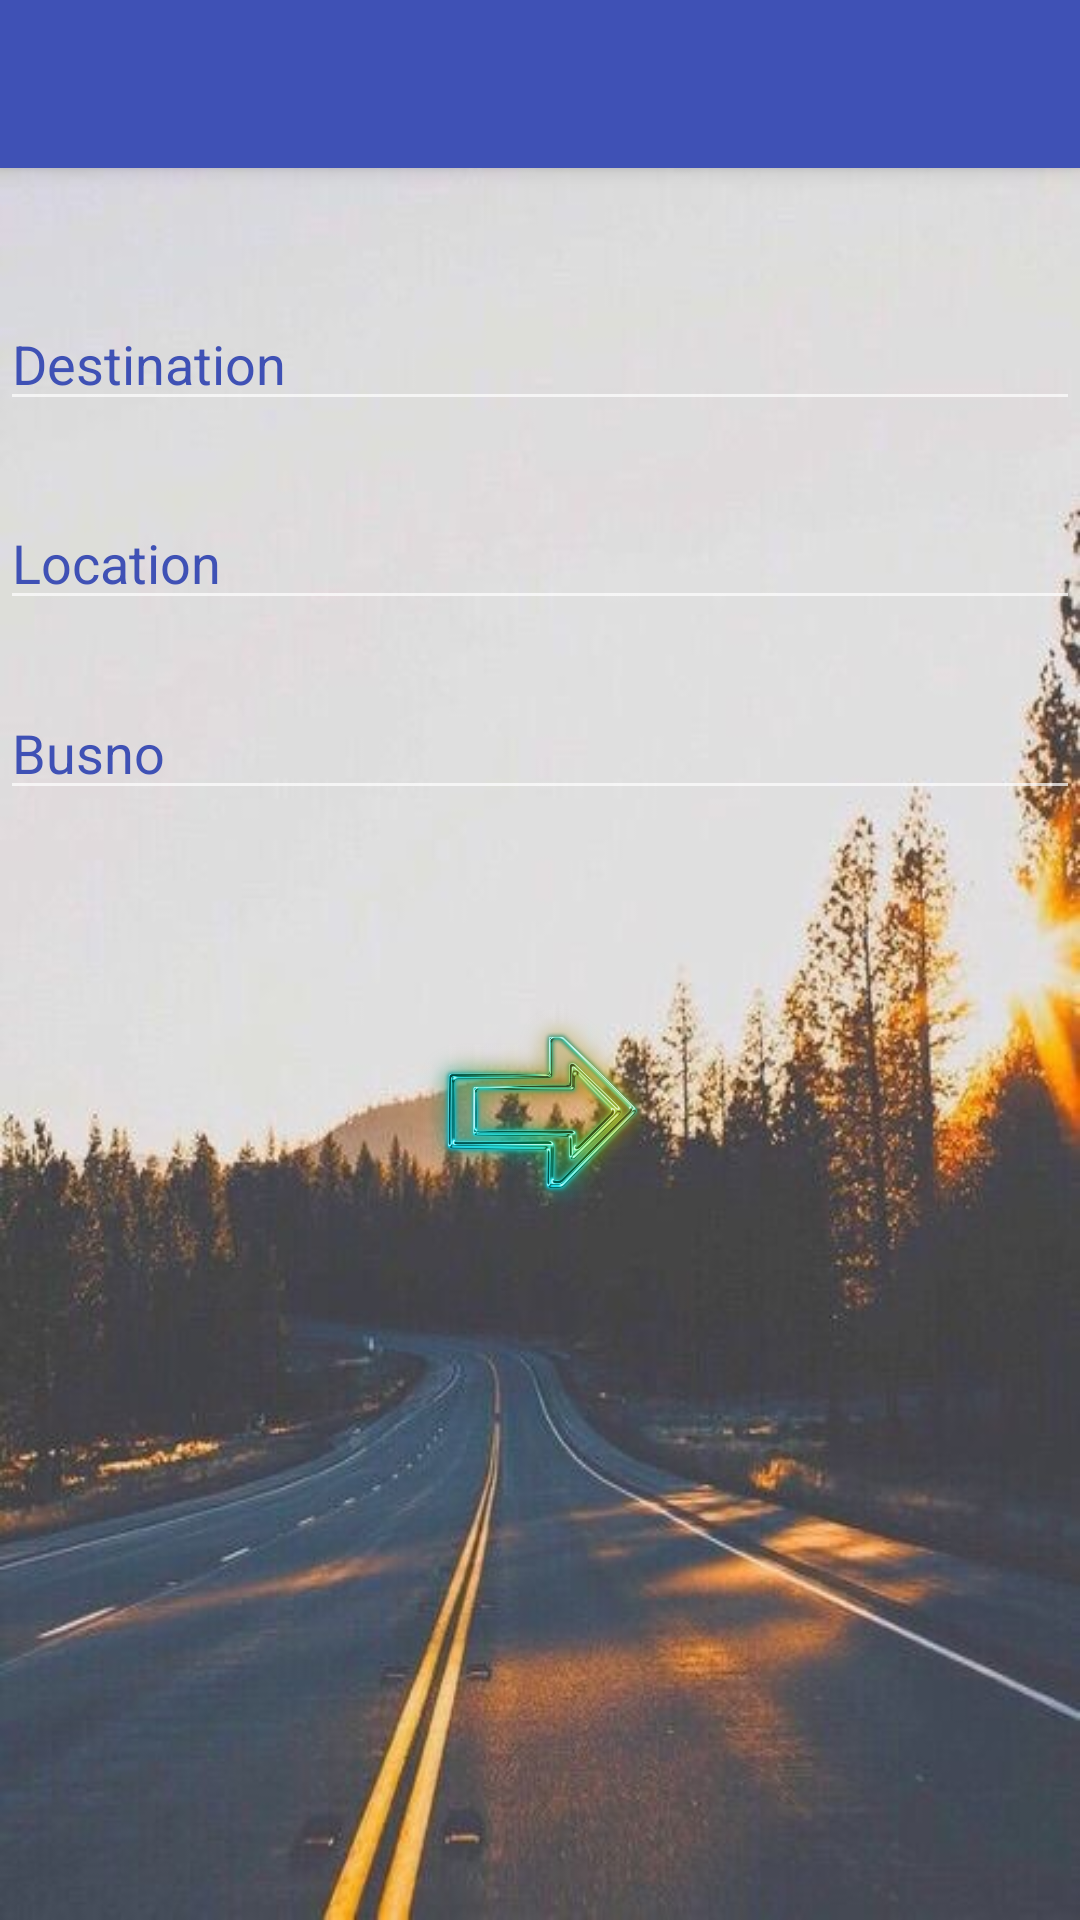

Where to tap for icons on this 1080x1920 app screen, as (x,y):
enter: (540,1110)
